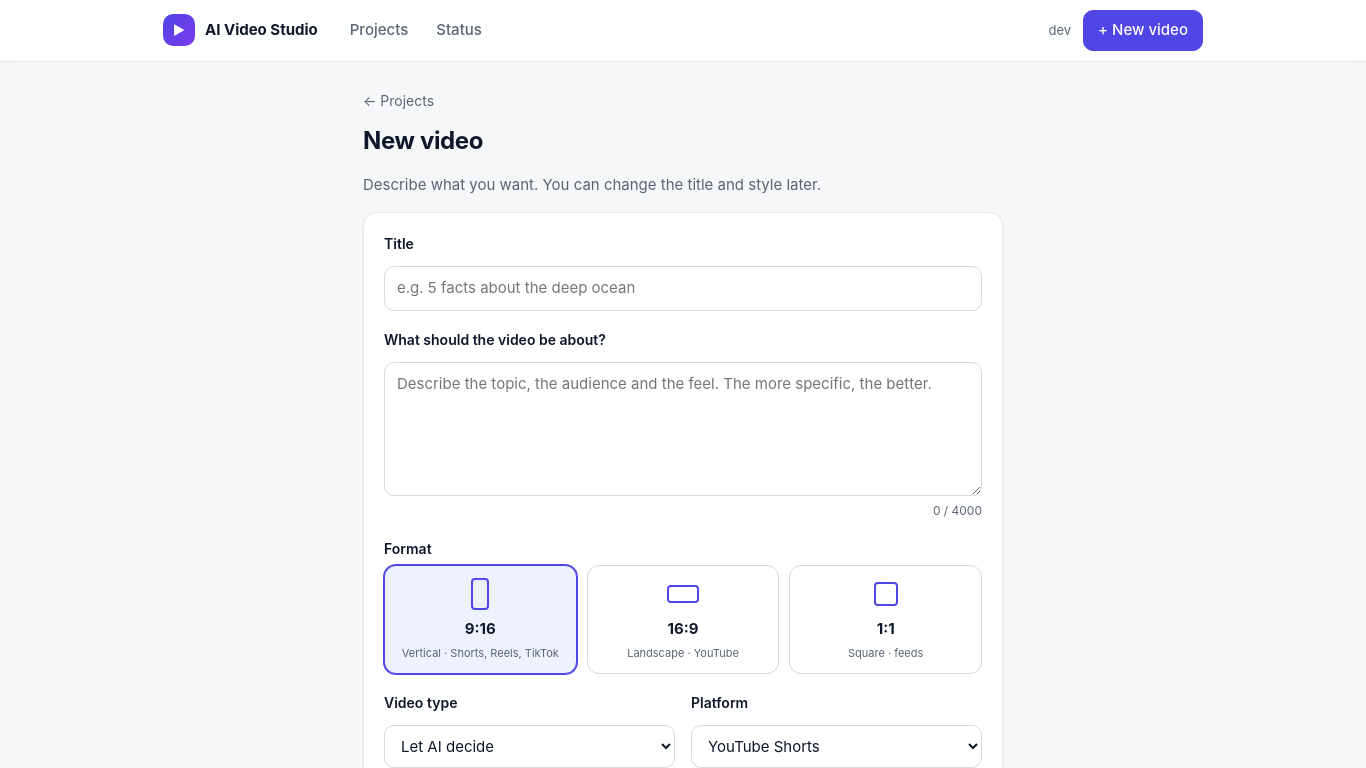
new project form › notes motion graphics typed in the description too
Type "An infographic video about rainfall" into the text box labelled "What should the video be about?".
click(683, 429); type("An infographic video about rainfall")  # box [384,362,982,496]
(page scrolled)
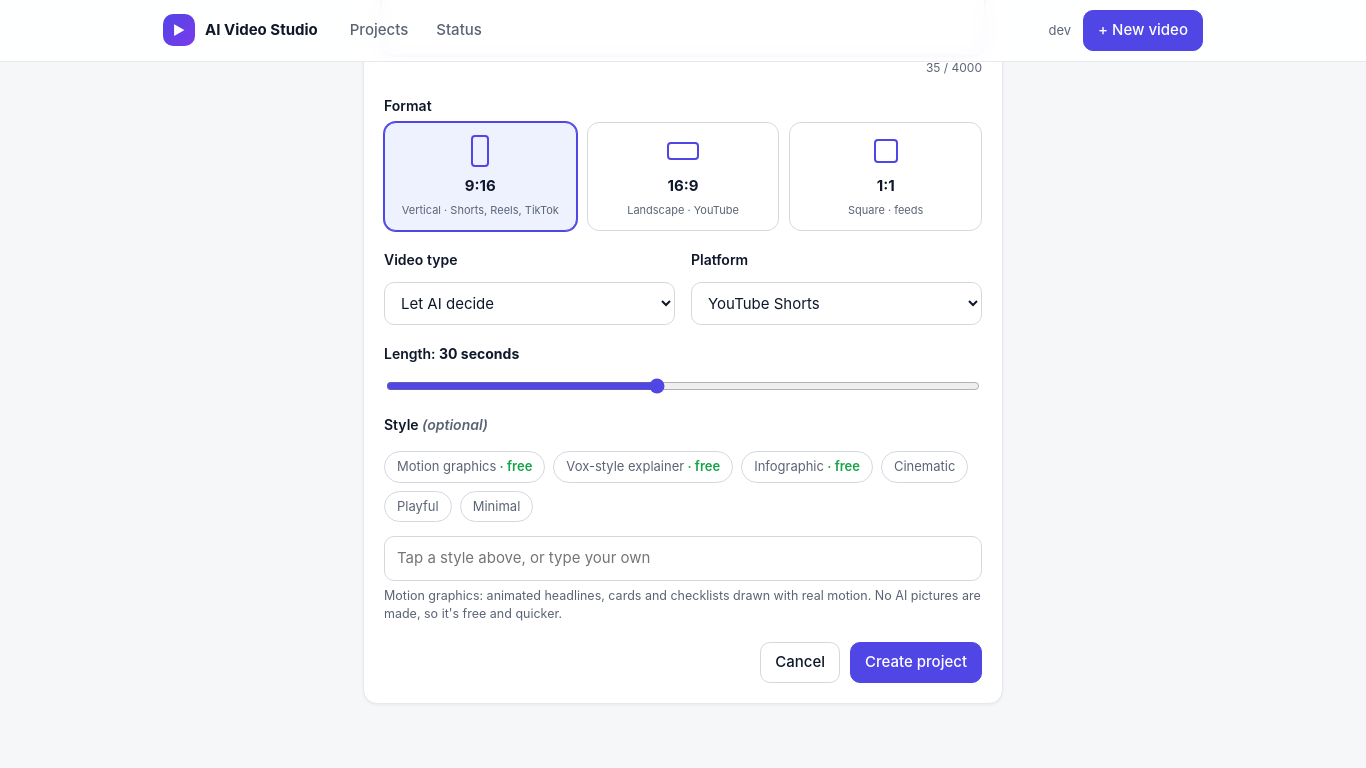
expect the message shows "Motion graphics": met, box [384,588,981,621]
